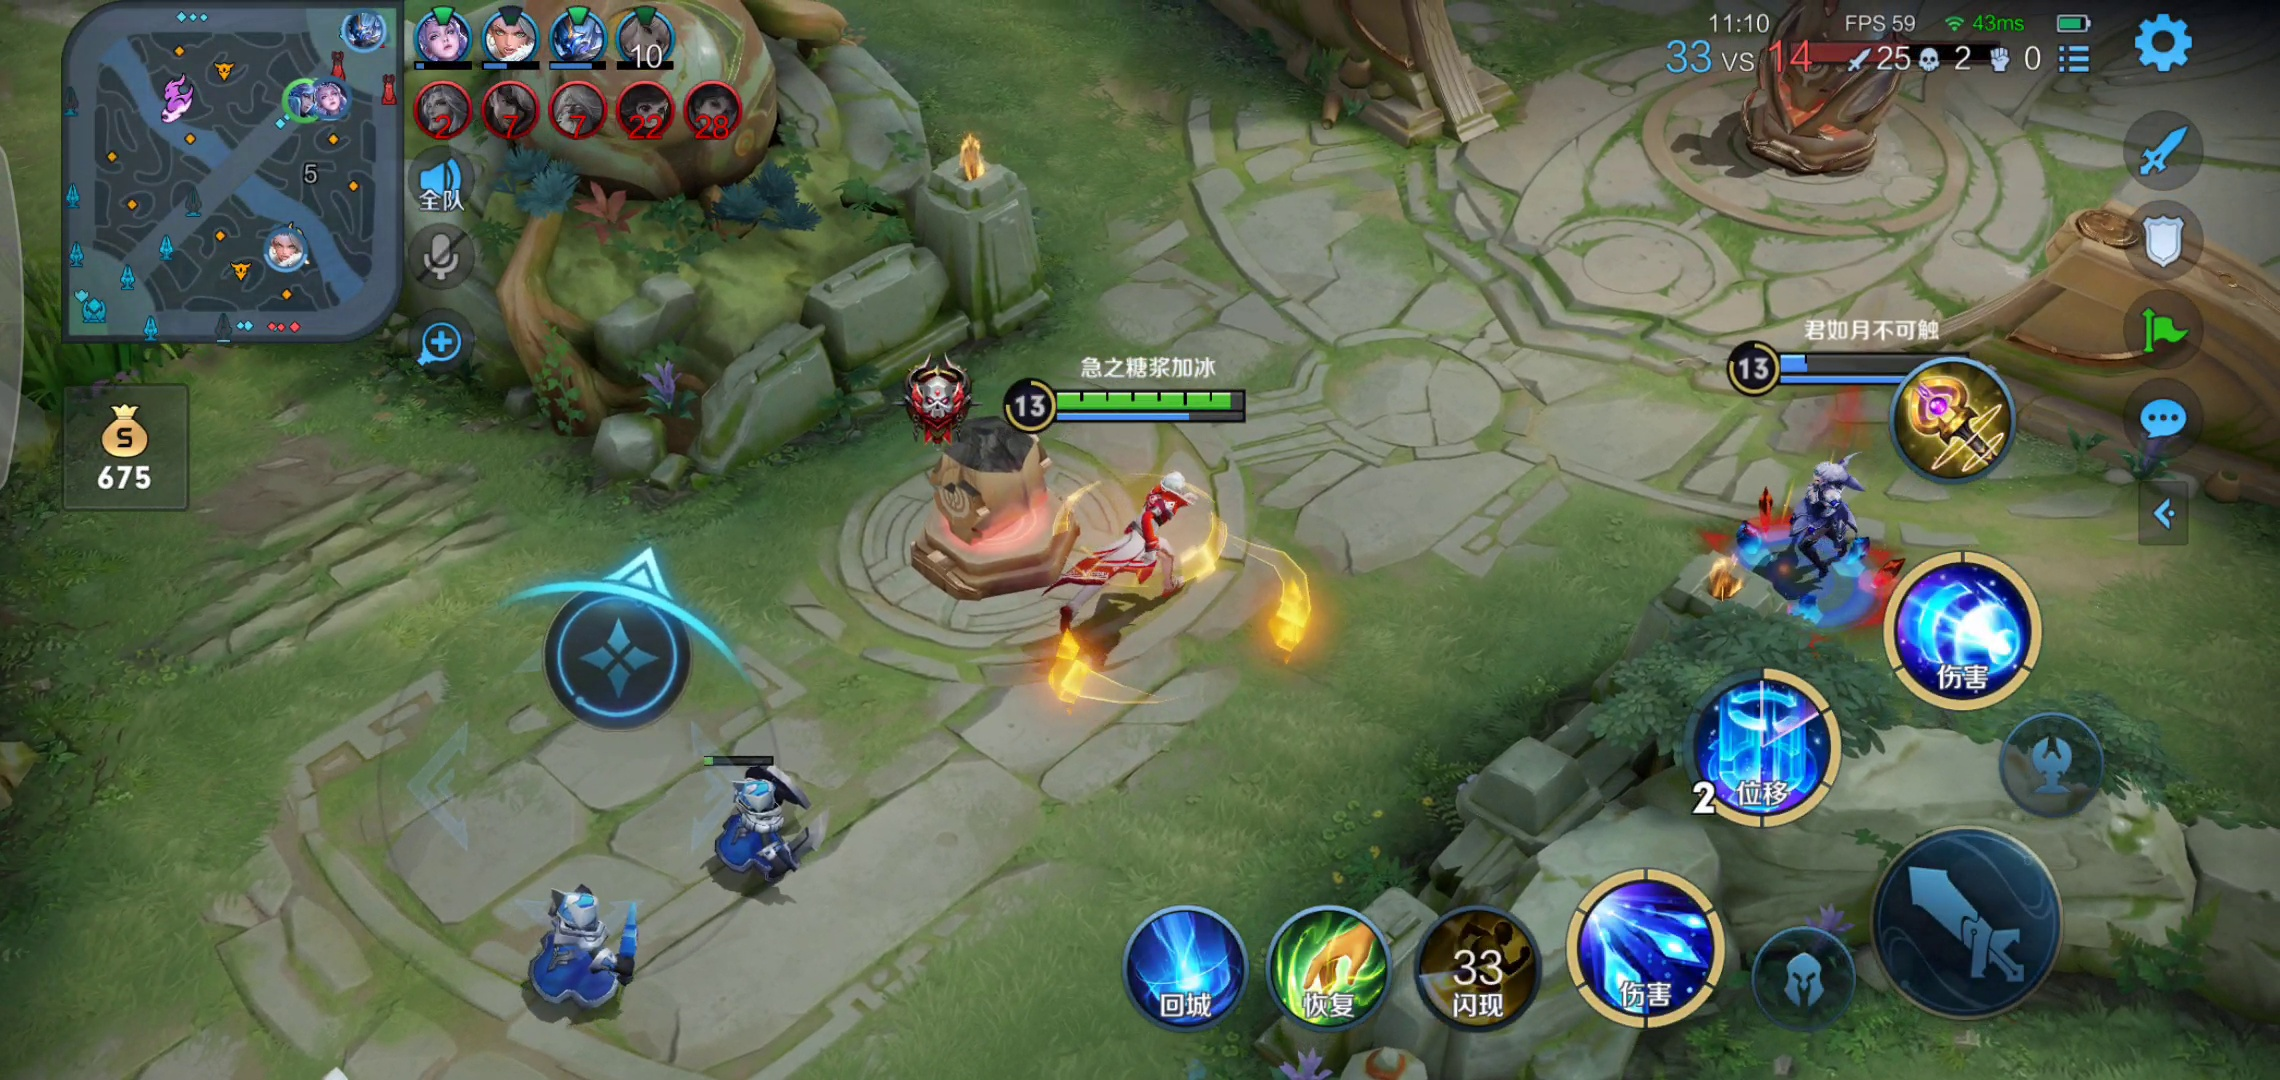grass: (1, 238, 188, 427)
hero: (1719, 446, 1889, 632), (1063, 456, 1219, 615)
soldier: (516, 874, 653, 1015), (702, 754, 816, 885)
tower: (904, 419, 1077, 599), (1729, 1, 1903, 174)
